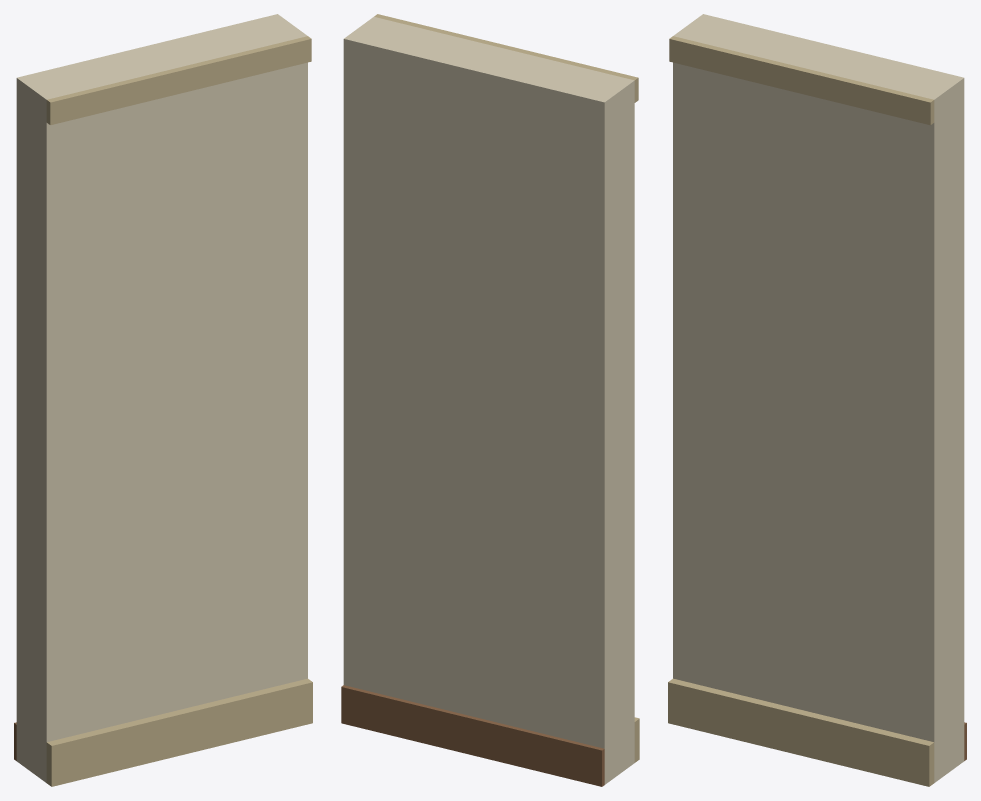
File: rpg-mansion-plain-plaster-bay-01.glb
3 views of the same model, side by side, from view 1: azimuth 30°, elevation 25°; view 2: azimuth 150°, elevation 25°; view 3: azimuth 330°, elevation 25° (orthographic).
Parts seen in each view (by area): view 1: rpg-mansion-plain-plaster-bay-01; view 2: rpg-mansion-plain-plaster-bay-01; view 3: rpg-mansion-plain-plaster-bay-01.
Boxes of the visible parts, left/top/right/bottom form: rpg-mansion-plain-plaster-bay-01: left=14, top=14, right=312, bottom=786; rpg-mansion-plain-plaster-bay-01: left=341, top=14, right=639, bottom=786; rpg-mansion-plain-plaster-bay-01: left=668, top=14, right=966, bottom=786.
Bounding box in the file's own units: 1.2 × 3 × 0.3.
